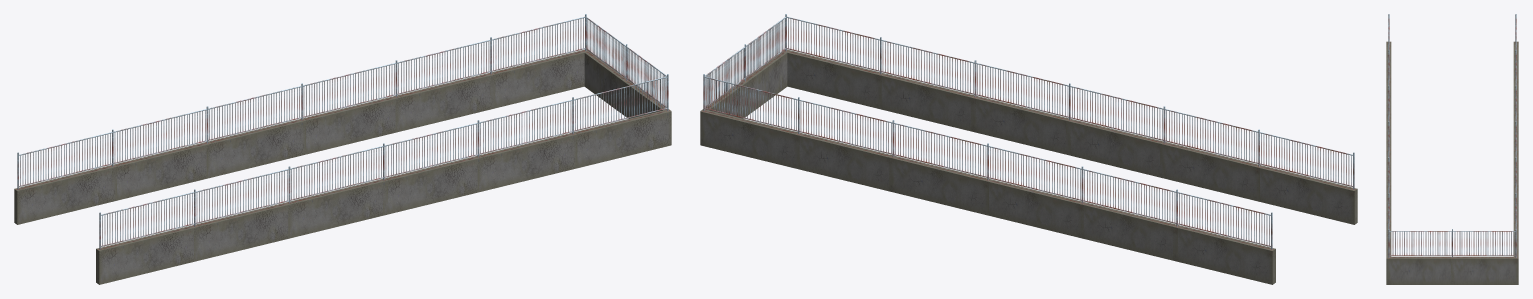
File: scene_multiple.gltf
3 views of the same model, side by side, from view 1: azimuth 30°, elevation 25°; view 2: azimuth 150°, elevation 25°; view 3: azimuth 270°, elevation 25° (orthographic). The views are drawn at different scales.
Parts seen in each view (by area): view 1: Fence, Fence_Fence_0.013, Fence_Fence_0.004, Fence_Fence_0.011, Fence_Fence_0.002, Fence_Fence_0.010, Fence_Fence_0.012, Fence_Fence_0.006, Fence_Fence_0.008, Fence_Fence_0.009, Fence_Fence_0.005, Fence_Fence_0.001 (+2 smaller); view 2: Fence, Fence_Fence_0.012, Fence_Fence_0.006, Fence_Fence_0.013, Fence_Fence_0.009, Fence_Fence_0.005, Fence_Fence_0.001, Fence_Fence_0.008, Fence_Fence_0.002, Fence_Fence_0.010, Fence_Fence_0.011, Fence_Fence_0.004 (+2 smaller); view 3: Fence_Fence_0.007, Fence_Fence_0.003, Fence_Fence_0.008, Fence_Fence_0.006, Fence_Fence_0.004, Fence_Fence_0.011, Fence_Fence_0.002, Fence_Fence_0.010, Fence, Fence_Fence_0.013, Fence_Fence_0.001, Fence_Fence_0.012 (+2 smaller).
Boxes of the visible parts, x1,y1,x2,y2 form: Fence: (14, 129, 116, 224); Fence_Fence_0.013: (96, 190, 198, 284); Fence_Fence_0.004: (393, 37, 495, 132); Fence_Fence_0.011: (286, 143, 387, 238); Fence_Fence_0.002: (206, 83, 305, 178); Fence_Fence_0.010: (475, 97, 577, 192); Fence_Fence_0.012: (192, 167, 292, 261); Fence_Fence_0.006: (488, 14, 588, 108); Fence_Fence_0.008: (569, 74, 671, 168); Fence_Fence_0.009: (380, 120, 482, 215); Fence_Fence_0.005: (298, 60, 400, 154); Fence_Fence_0.001: (112, 106, 210, 200); Fence: (1173, 189, 1275, 284); Fence_Fence_0.012: (1160, 106, 1259, 201); Fence_Fence_0.006: (700, 74, 799, 169); Fence_Fence_0.013: (1255, 129, 1357, 224); Fence_Fence_0.009: (971, 60, 1072, 155); Fence_Fence_0.005: (889, 120, 991, 215); Fence_Fence_0.001: (1078, 166, 1177, 260); Fence_Fence_0.008: (785, 14, 884, 109); Fence_Fence_0.002: (984, 143, 1083, 238); Fence_Fence_0.010: (876, 37, 978, 131); Fence_Fence_0.011: (1066, 83, 1165, 178); Fence_Fence_0.004: (794, 97, 896, 191); Fence_Fence_0.007: (1387, 229, 1454, 284); Fence_Fence_0.003: (1451, 229, 1517, 284); Fence_Fence_0.008: (1386, 195, 1391, 284); Fence_Fence_0.006: (1513, 195, 1518, 284); Fence_Fence_0.004: (1513, 157, 1518, 222); Fence_Fence_0.011: (1386, 86, 1391, 150); Fence_Fence_0.002: (1513, 86, 1518, 150); Fence_Fence_0.010: (1386, 158, 1391, 222); Fence: (1513, 14, 1518, 78); Fence_Fence_0.013: (1386, 14, 1391, 79); Fence_Fence_0.001: (1513, 50, 1518, 114); Fence_Fence_0.012: (1386, 50, 1391, 113).
Bounding box in the file's own units: 23.01 × 2.7 × 5.93.
14 materials, 14 textured.
